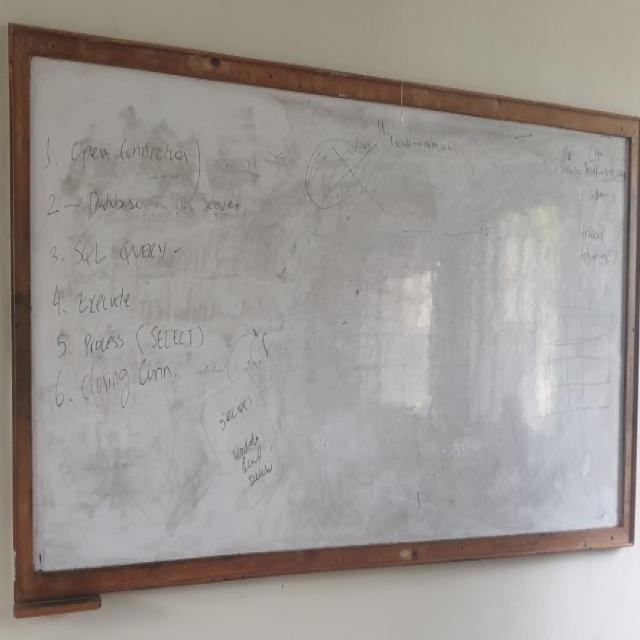White-board: (16, 41, 640, 584)
